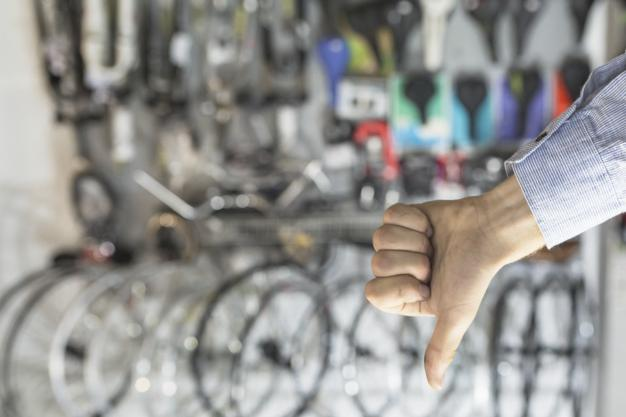thumbsdown: (364, 202, 460, 391)
